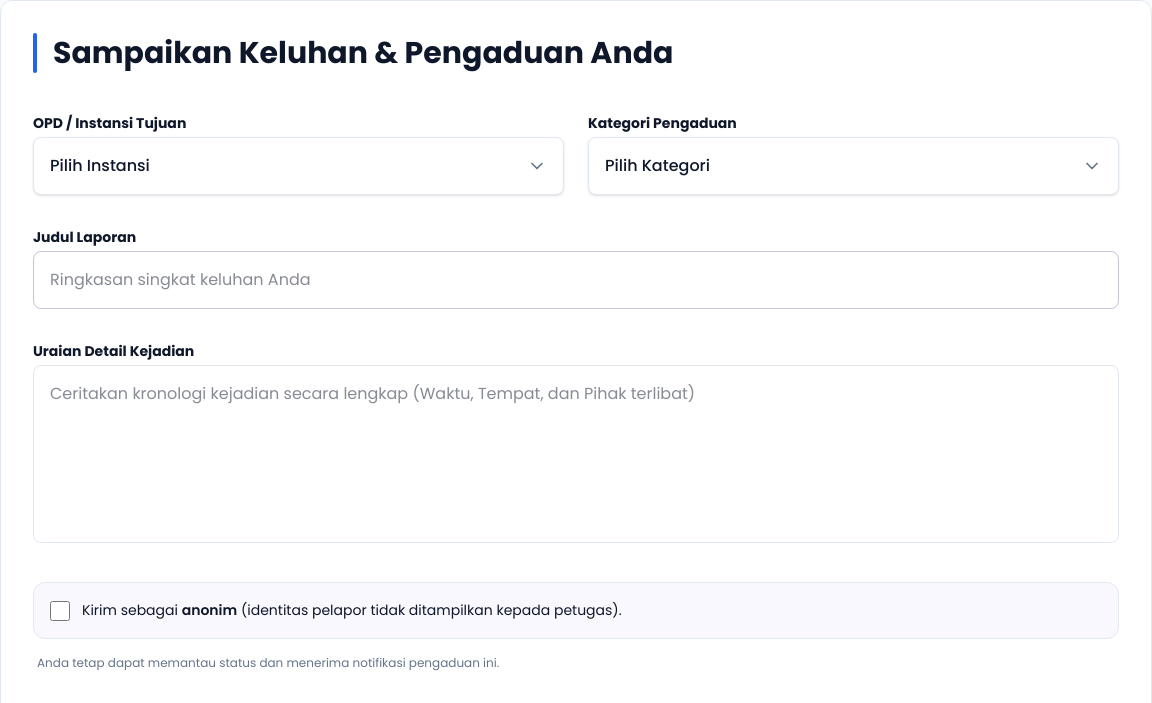
CreateComplaintForm — kategori umum › menawarkan tepat tiga kategori dari API, tanpa kategori topik lama
Expected: the text "Pilih Kategori" is shown, [605,154,710,178]
Click the button named "kategori pengaduan": (657, 166) [588,137,1119,195]
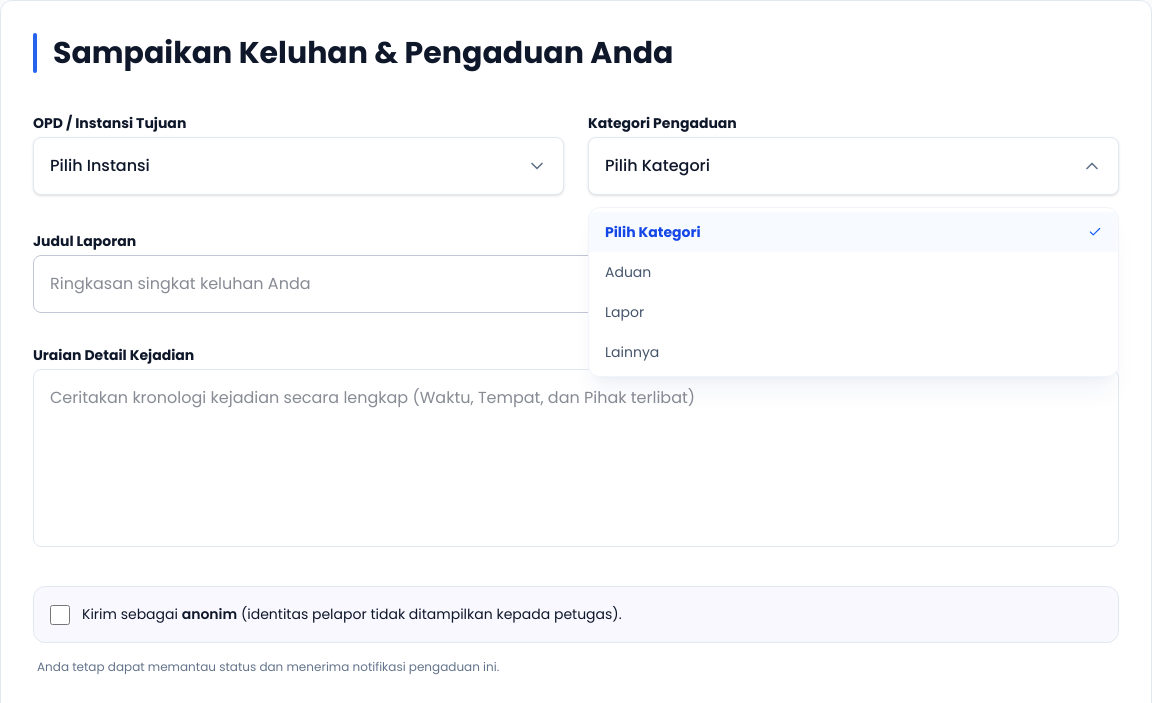
Result: the text "Aduan" is shown at [605,262,651,282]
Result: the text "Lapor" is shown at [605,302,644,322]
Result: the text "Lainnya" is shown at [605,342,659,362]
